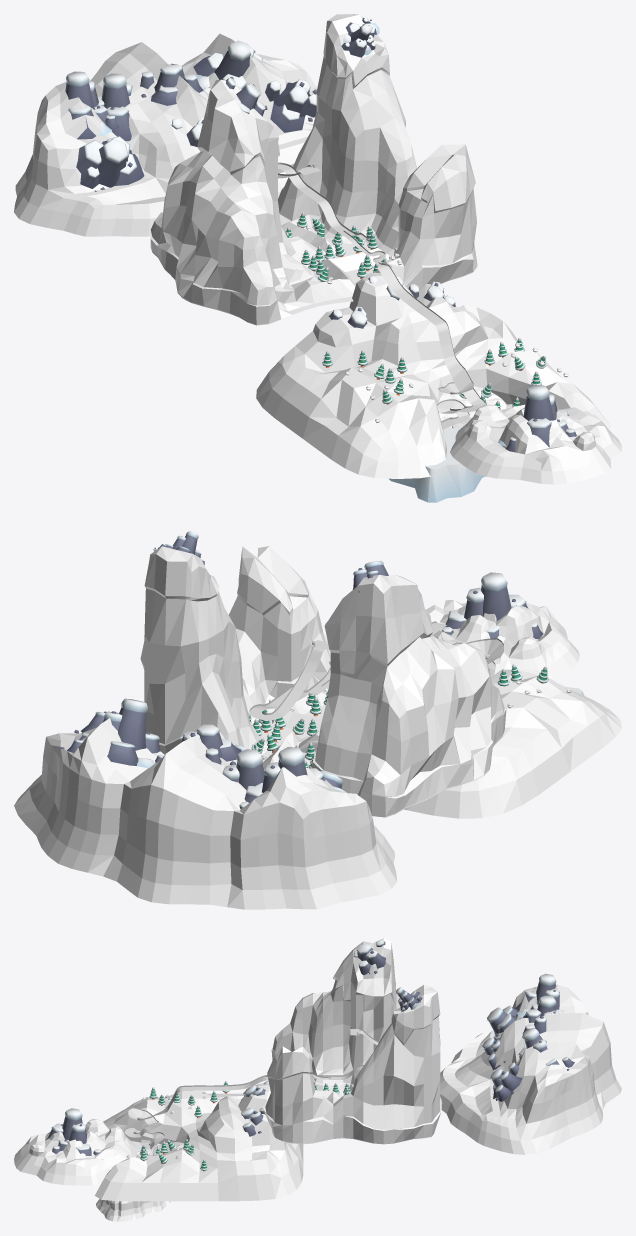
The model's file is skitrackimport.glb.
3 renders of one model, top to bottom at view 1: azimuth 30°, elevation 25°; view 2: azimuth 150°, elevation 25°; view 3: azimuth 270°, elevation 25°, orthographic. The views are drawn at different scales.
Visible parts, largest first — view 1: Duplicate 2/4, snow-flat.002, Duplicate 1/4, rocks-large.004, Track-col; view 2: Duplicate 2/4, Duplicate 1/4, snow-flat.002, rocks-large.004, Track-col; view 3: Duplicate 2/4, Duplicate 1/4, snow-flat.002, rocks-large.004, Track-col.
Boxes of the visible parts, x1,y1,x2,y2 form: Duplicate 2/4: (150,14,477,325); snow-flat.002: (256,273,610,502); Duplicate 1/4: (14,33,316,236); rocks-large.004: (450,385,621,484); Track-col: (278,162,485,429); Duplicate 2/4: (140,531,506,817); Duplicate 1/4: (14,698,397,909); snow-flat.002: (404,664,621,818); rocks-large.004: (426,572,579,680); Track-col: (249,621,503,720); Duplicate 2/4: (262,938,442,1144); Duplicate 1/4: (440,973,621,1154); snow-flat.002: (94,1080,303,1221); rocks-large.004: (14,1108,137,1185); Track-col: (124,1029,378,1149).
Bounding box in the file's own units: 1377 × 1199 × 2956.
12 materials, 6 textured.
